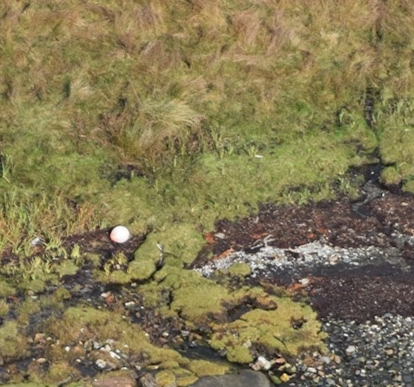white_in_green: (89, 205, 147, 258)
